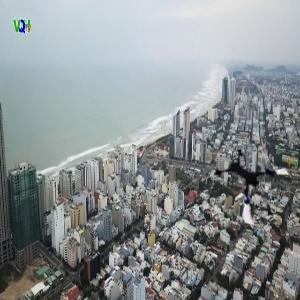drone: (214, 142, 292, 220)
